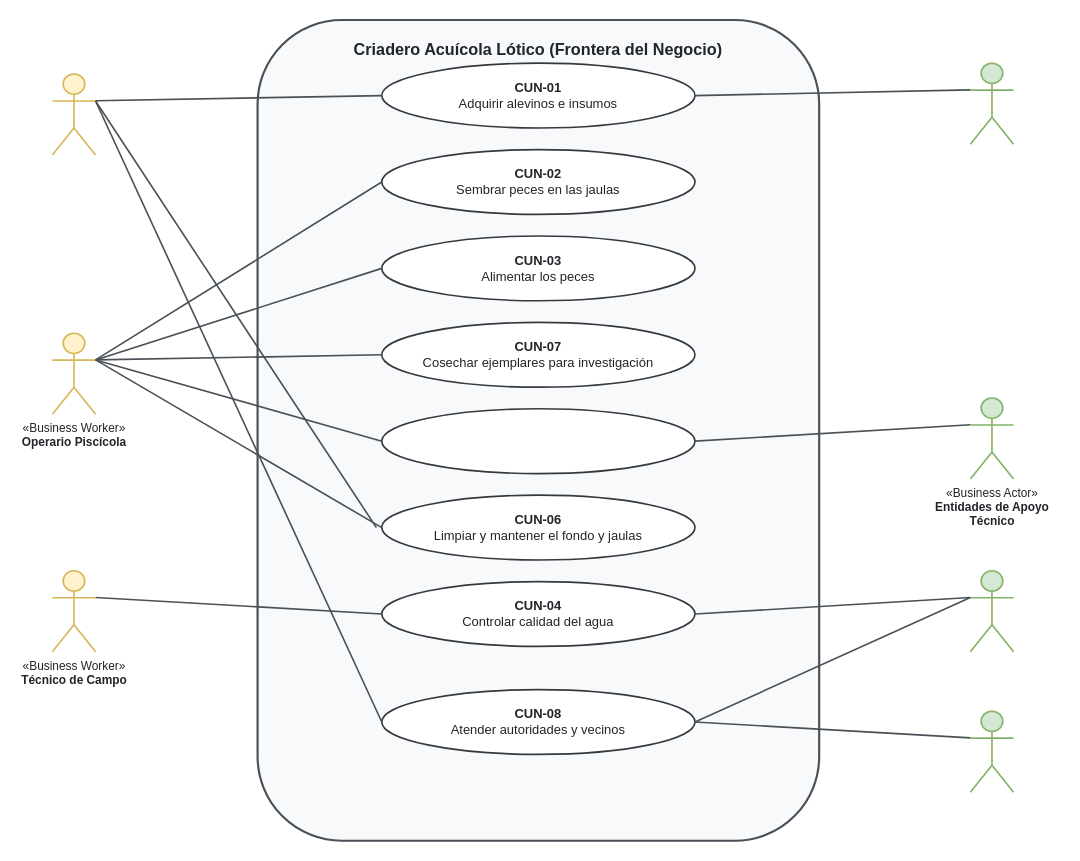
The diagram is 1080 pixels wide and 861 high, and some of its shapes have lost their labels. The centre of each missing label's shape, as x and y in pixels:
"CUN-05 Controlar sanidad y mortalidad" belongs at pixel 537 440.
"«Business Actor» Autoridad Ambiental (Cormacarena / MinSalud)" belongs at pixel 991 610.
"«Business Actor» Proveedores" belongs at pixel 991 103.
"«Business Actor» Vecinos y Comunidad Local" belongs at pixel 991 751.
"«Business Worker» Productor Piscícola" belongs at pixel 73 114.
